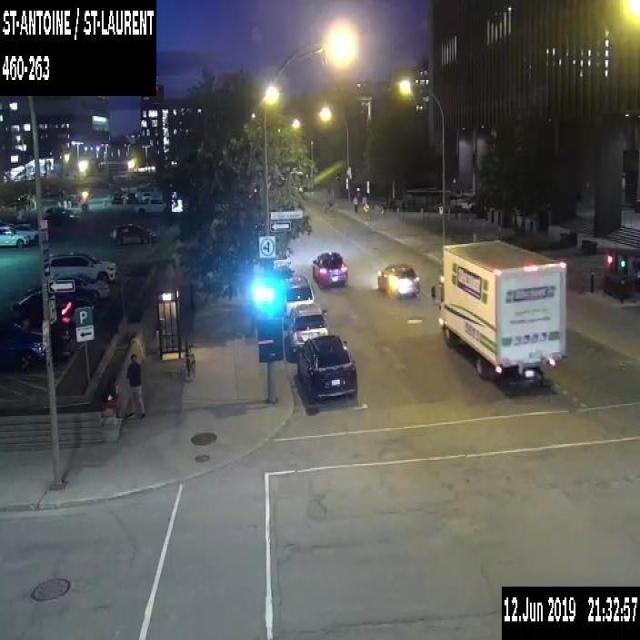pedestrian: (124, 350, 146, 414), (361, 193, 367, 216), (352, 192, 358, 215)
vehicle: (429, 235, 567, 382), (296, 334, 356, 401), (12, 289, 94, 323), (24, 271, 110, 299), (286, 301, 328, 354), (48, 251, 116, 282), (0, 322, 45, 368), (375, 262, 421, 298), (281, 274, 314, 318), (311, 250, 347, 288), (110, 222, 156, 244), (42, 205, 79, 225), (0, 225, 29, 247), (14, 222, 39, 245), (134, 196, 166, 212), (272, 250, 291, 270), (111, 189, 136, 202), (273, 263, 294, 278), (134, 189, 152, 202)
